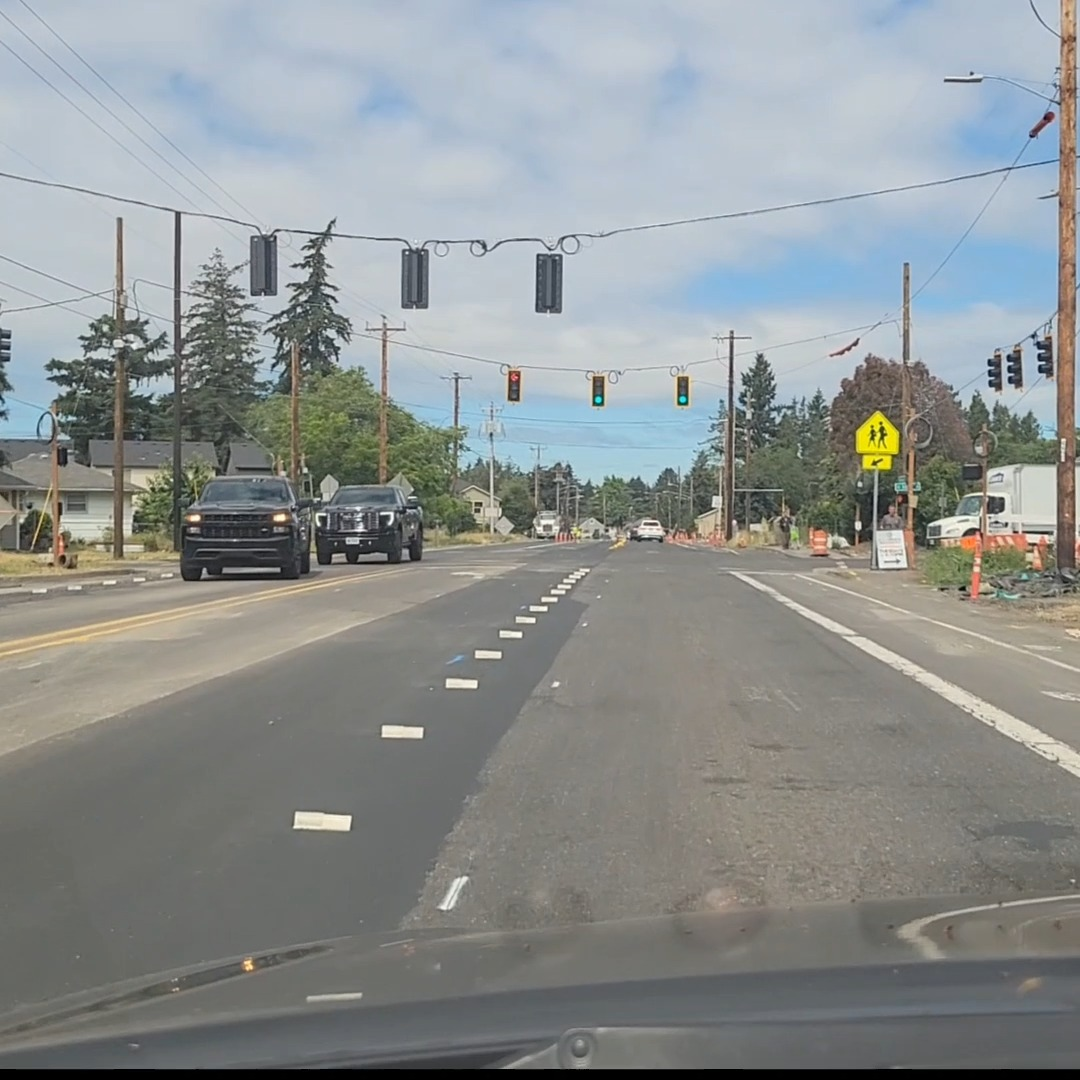car: (178, 475, 318, 580), (312, 483, 424, 564), (628, 518, 666, 543)
crosswalk-sign: (854, 409, 900, 457)
delineator: (968, 530, 983, 600)
